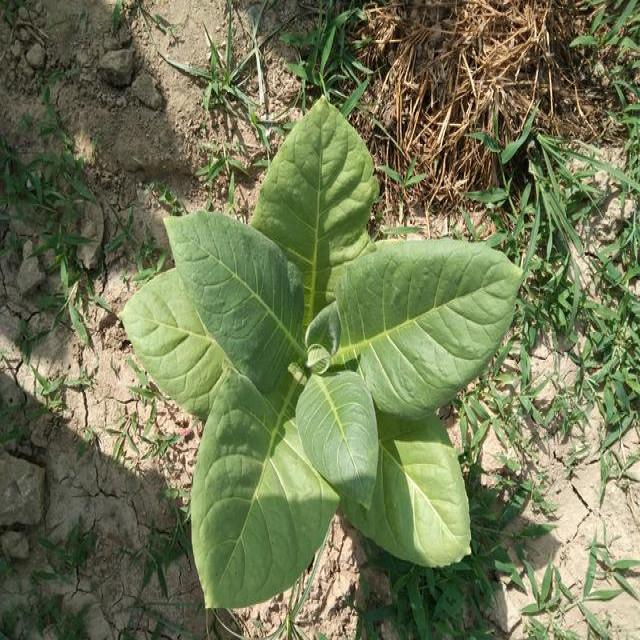crop: (121, 91, 520, 606)
